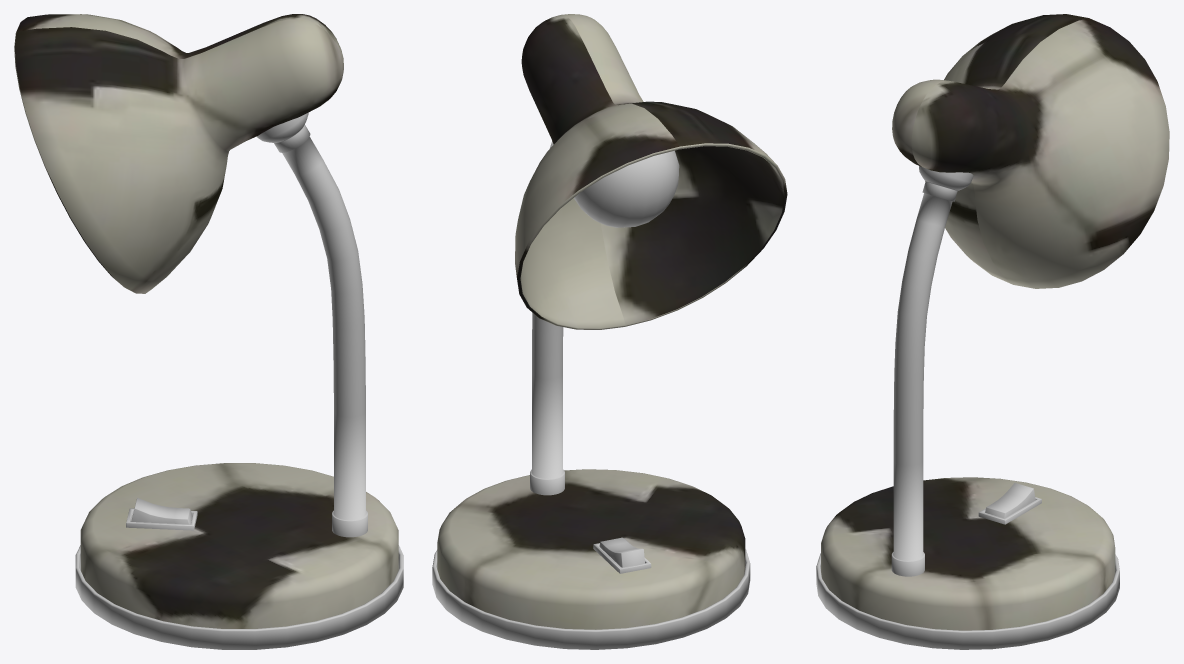
File: lamp.gltf
The picture shows the model from 3 angles, left to right: view 1: azimuth 30°, elevation 25°; view 2: azimuth 150°, elevation 25°; view 3: azimuth 270°, elevation 25°; orthographic projection. The views are drawn at different scales.
Parts seen in each view (by area): view 1: Desk_Lamp_bulb_0.003; view 2: Desk_Lamp_bulb_0.003; view 3: Desk_Lamp_bulb_0.003.
Part boxes in pixels (<box>): Desk_Lamp_bulb_0.003: <box>14,14,403,649</box>; Desk_Lamp_bulb_0.003: <box>432,14,787,649</box>; Desk_Lamp_bulb_0.003: <box>816,14,1169,649</box>.
Size of the model in its own units: 0.2127 by 0.3352 by 0.2066.
